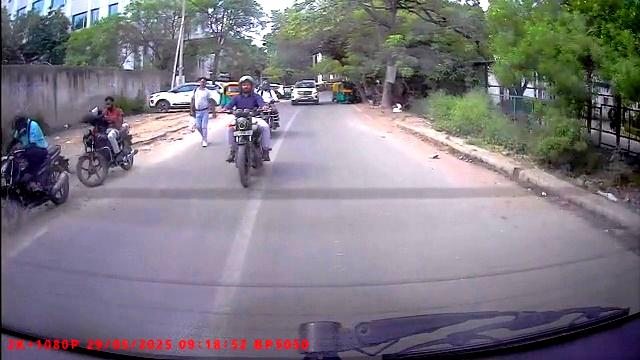motorcycle_with_helmet: (222, 75, 274, 188)
